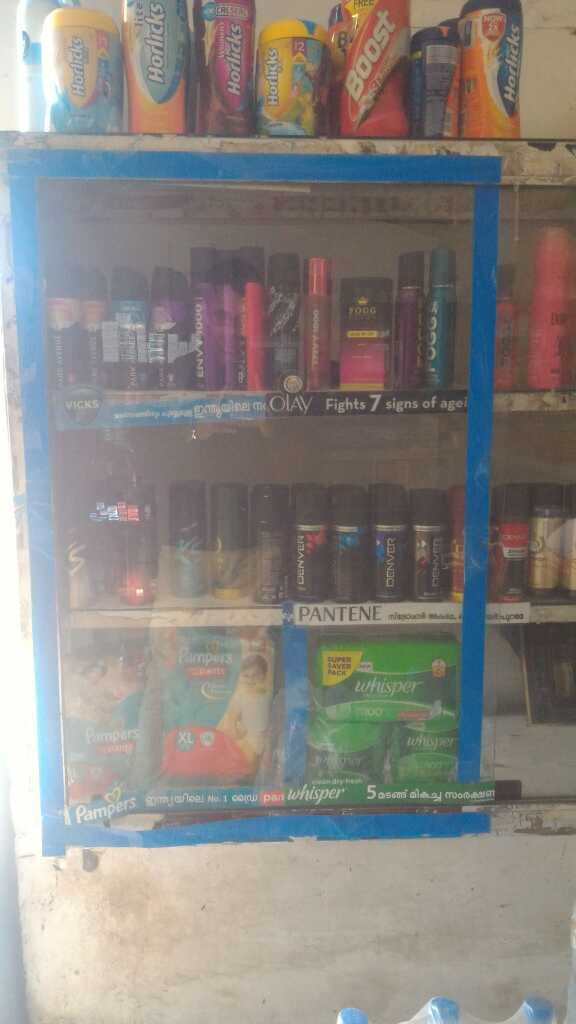whisper: (315, 642, 462, 723), (300, 719, 393, 782), (382, 714, 457, 783)
